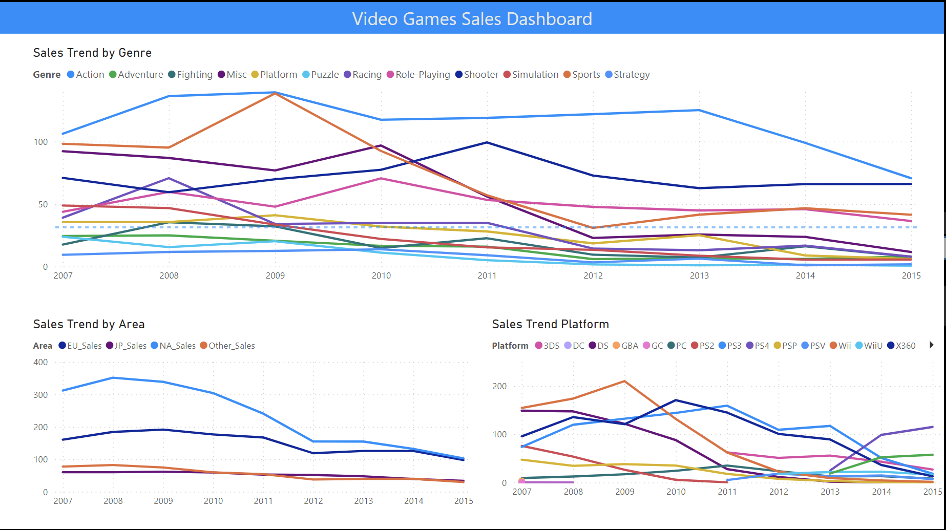

What the dashboard file says about the page in this screenshot:
{"tool":"powerbi","page":{"name":"Trend","canvas":[1280,720],"ordinal":1},"visuals":[{"type":"lineChart","title":"Sales Trend by Genre","fields":{"Category":["vgsales.Year"],"Y":["Sum(vgsales.Sales)"],"Series":["vgsales.Genre"]},"box":[50.8,67.3,1200.3,326.9],"z":0},{"type":"lineChart","title":"Sales Trend Platform","fields":{"Category":["vgsales.Year"],"Y":["Sum(vgsales.Sales)"],"Series":["vgsales.Platform"]},"box":[666.1,431.2,613.9,252.7],"z":1000},{"type":"lineChart","title":"Sales Trend by Area","fields":{"Category":["vgsales.Year"],"Y":["Sum(vgsales.Sales)"],"Series":["vgsales.Area"]},"box":[50.8,431.2,600.2,265.1],"z":2000},{"type":"textbox","box":[9.6,10,1270.4,42.5],"z":3000}]}

Visuals, with their boxes in screenshot pixels (x1, y1, x2, y2), scaled from the page's 1280x720 canvas onto the 946x530 screenshot:
"Sales Trend by Genre" lineChart: (38,50,925,290)
"Sales Trend Platform" lineChart: (492,317,945,503)
"Sales Trend by Area" lineChart: (38,317,481,513)
textbox: (7,7,945,39)
